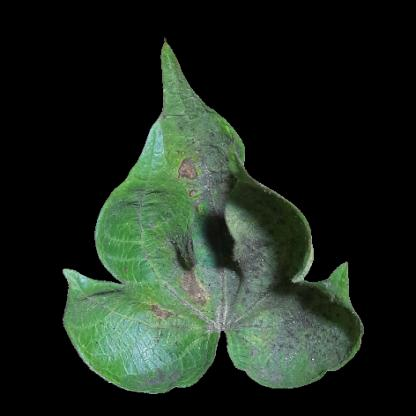curl_stage1: (93, 312, 155, 372), (107, 212, 157, 281)
sooty: (241, 244, 339, 356), (182, 103, 238, 217)
